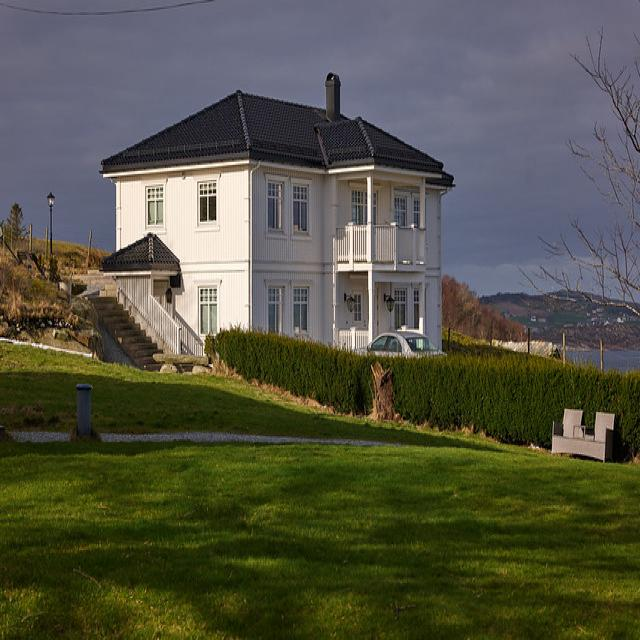Normal_building: (95, 61, 455, 378)
